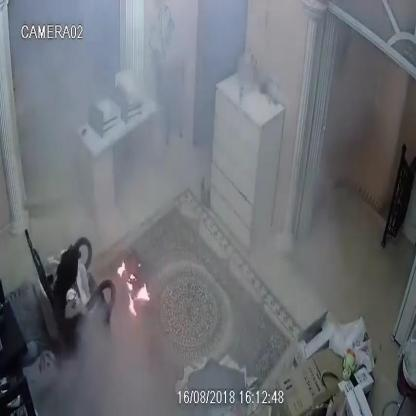fire: (136, 284, 150, 301), (129, 292, 136, 316), (126, 274, 136, 290), (118, 260, 125, 278)
